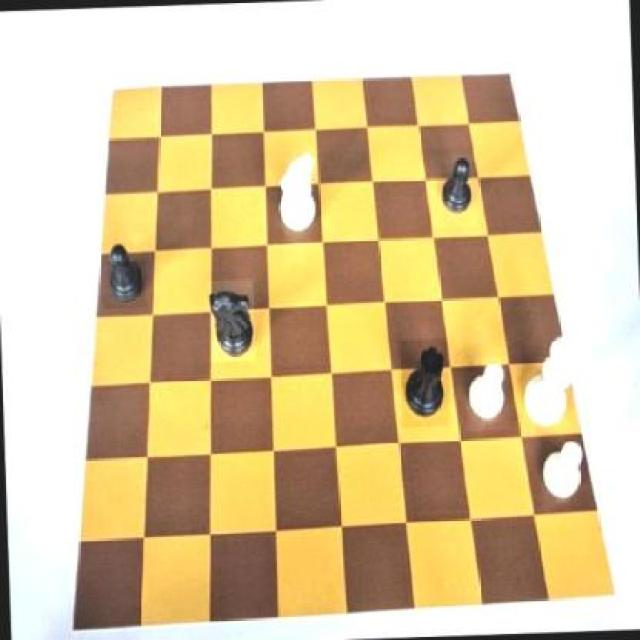black-king: (209, 280, 257, 363)
black-knight: (430, 156, 478, 230), (101, 242, 148, 309)
black-queen: (400, 338, 451, 428)
white-bishop: (520, 330, 585, 434)
white-king: (272, 151, 320, 243)
white-knight: (534, 431, 590, 506), (464, 357, 510, 432)
